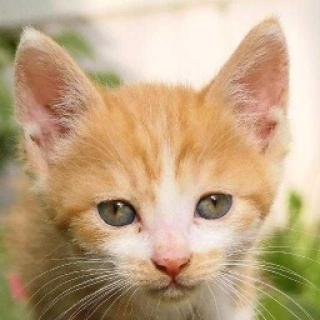cat: (17, 18, 293, 310)
nose: (144, 220, 194, 282)
